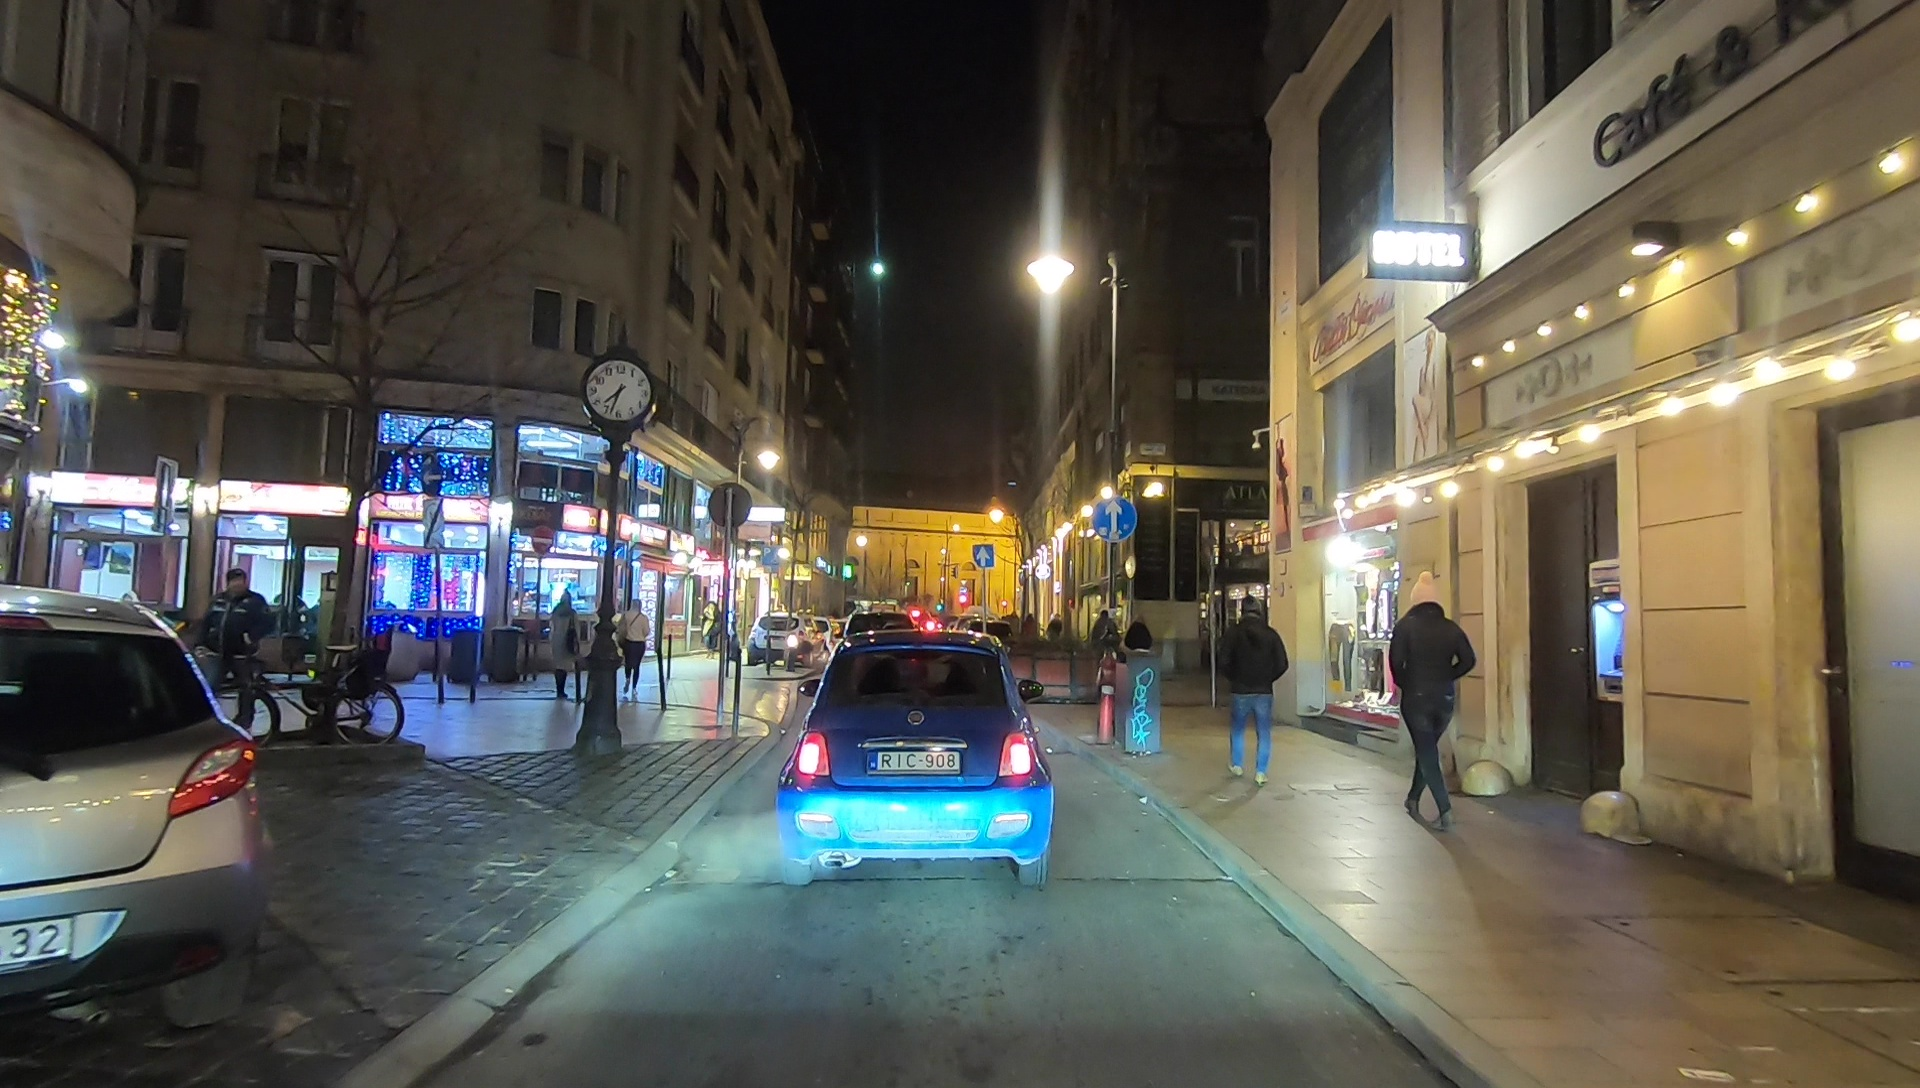person: (1389, 573, 1473, 834), (1215, 597, 1288, 784), (204, 573, 276, 710), (547, 589, 578, 700), (617, 597, 647, 695), (1123, 613, 1151, 700), (1091, 611, 1119, 686)
